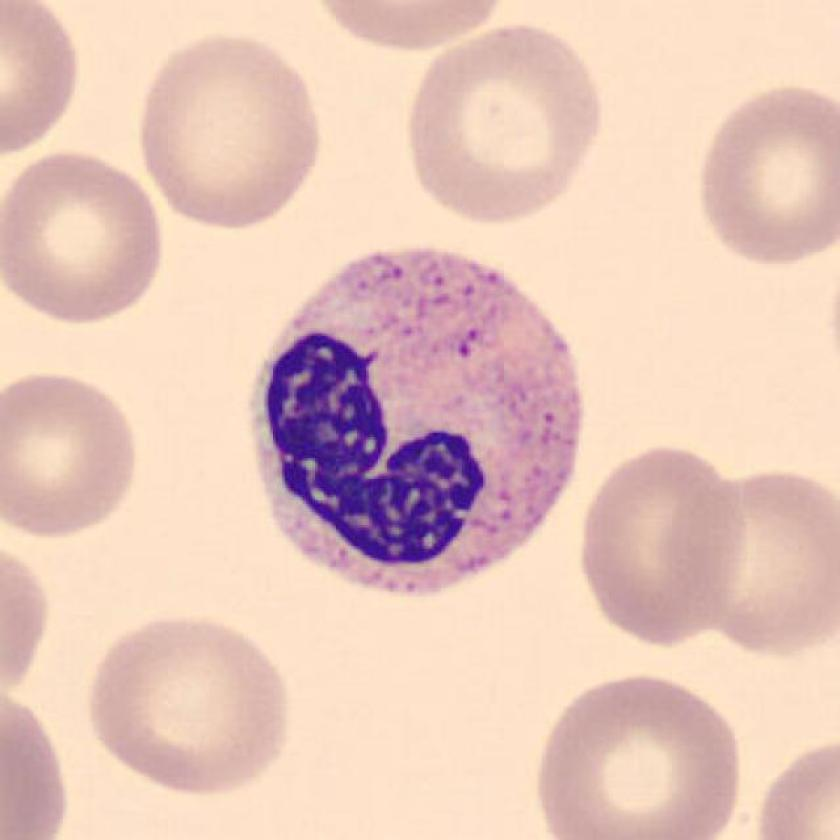neutrophil: (246, 247, 584, 600)
